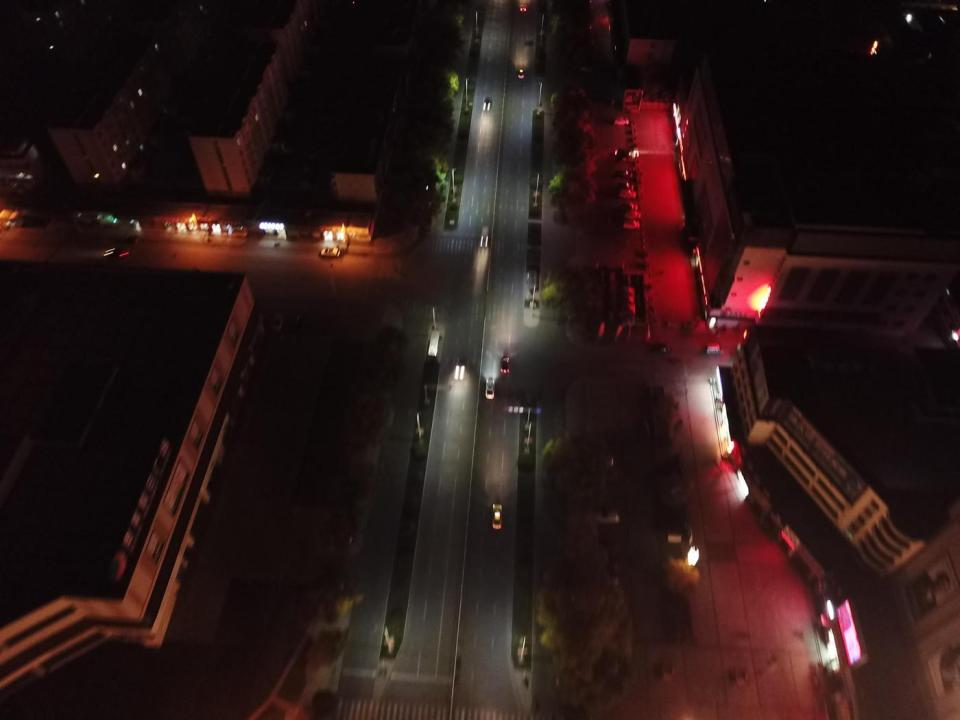bus: (100, 218, 142, 236)
car: (588, 507, 619, 523), (104, 247, 129, 258), (588, 455, 613, 466), (492, 503, 502, 530), (319, 247, 340, 258), (456, 356, 466, 379), (652, 343, 670, 355), (271, 312, 282, 330), (614, 148, 630, 160), (486, 379, 494, 399), (616, 170, 632, 180), (619, 189, 635, 199), (480, 227, 488, 246), (502, 355, 510, 373), (624, 210, 640, 219), (623, 220, 639, 229), (122, 234, 138, 242), (614, 117, 629, 125), (483, 97, 491, 111), (582, 38, 594, 45), (518, 68, 524, 78), (520, 5, 526, 12)
truck: (706, 342, 724, 355)
van: (7, 211, 20, 227)
